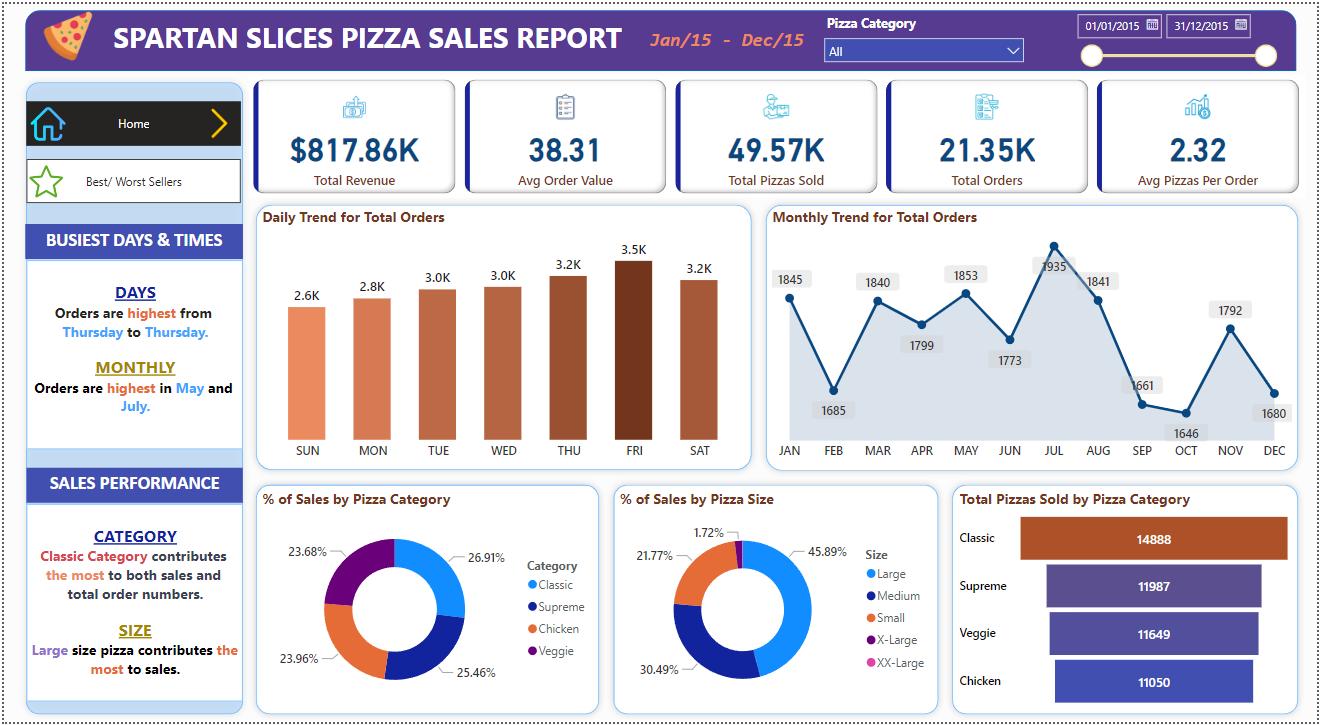

What the dashboard file says about the page in this screenshot:
{"tool":"powerbi","page":{"name":"Home","canvas":[1500,820],"ordinal":0},"visuals":[{"type":"shape","box":[16.5,81.4,263.9,738.1],"z":0},{"type":"cardVisual","fields":{"Data":["pizza_sales_excel_file.Total Revenue","pizza_sales_excel_file.Avg Total Value","pizza_sales_excel_file.Total Pizzas Sold","pizza_sales_excel_file.Total Orders","pizza_sales_excel_file.Avg Pizzas Per Order"]},"box":[280.4,81.4,1207.2,140.2],"z":1000},{"type":"shape","box":[23.9,7.2,1452.8,69.4],"z":2000},{"type":"textbox","box":[115.7,11.4,608.6,61.4],"z":3000},{"type":"textbox","box":[724.3,22.9,202.9,41.4],"z":4000},{"type":"image","box":[37.1,2.9,71.4,67.1],"z":5000},{"type":"shape","box":[280.4,221.6,582.5,319.6],"z":6000},{"type":"columnChart","title":"Daily Trend for Total Orders","fields":{"Category":["pizza_sales_excel_file.Order Day"],"Y":["pizza_sales_excel_file.Total Orders"]},"box":[290,231.4,562.9,298.6],"z":7000},{"type":"shape","box":[862.9,221.4,624.3,320],"z":8000},{"type":"areaChart","title":"Monthly Trend for Total Orders","fields":{"Category":["pizza_sales_excel_file.Order Month"],"Y":["pizza_sales_excel_file.Total Orders"]},"box":[872.9,231.4,604.3,298.6],"z":9000},{"type":"shape","box":[280.4,541.2,408.2,278.4],"z":10000},{"type":"shape","box":[688.6,541.4,387.1,278.6],"z":11000},{"type":"shape","box":[1075.7,541.4,411.4,278.6],"z":12000},{"type":"donutChart","title":"% of Sales by Pizza Category","fields":{"Category":["pizza_sales_excel_file.pizza_category"],"Y":["pizza_sales_excel_file.Total Revenue"]},"box":[289.7,554.6,388.7,253.6],"z":13000},{"type":"donutChart","title":"% of Sales by Pizza Size","fields":{"Category":["pizza_sales_excel_file.pizza_size"],"Y":["pizza_sales_excel_file.Total Revenue"]},"box":[698.6,554.3,367.1,254.3],"z":14000},{"type":"funnel","title":"Total Pizzas Sold by Pizza Category","fields":{"Category":["pizza_sales_excel_file.pizza_category"],"Y":["pizza_sales_excel_file.Total Pizzas Sold"]},"box":[1087.1,554.3,390,254.3],"z":15000},{"type":"textbox","box":[24.3,251.4,248.6,40],"z":16000},{"type":"textbox","box":[25.7,292.9,247.1,215.7],"z":17000},{"type":"textbox","box":[25.7,530,247.1,40],"z":18000},{"type":"textbox","box":[25.7,571.4,247.1,225.7],"z":19000},{"type":"slicer","fields":{"Values":["pizza_sales_excel_file.pizza_category"]},"box":[927.1,7.1,248.6,60],"z":20000},{"type":"slicer","fields":{"Values":["pizza_sales_excel_file.order_date"]},"box":[1214.3,1.4,248.6,75.7],"z":21000},{"type":"pageNavigator","box":[25.7,111.4,245.7,50],"z":22000},{"type":"pageNavigator","box":[25.7,177.1,245.7,50],"z":23000},{"type":"image","box":[218.6,114.3,54.3,44.3],"z":24000},{"type":"image","box":[25.7,111.4,50,51.4],"z":25000},{"type":"image","box":[24.3,177.1,48.6,51.4],"z":26000}]}

Visuals, with their boxes in screenshot pixels (x1, y1, x2, y2), scaled from the page's 1500x820 canvas onto the 1320x725 screenshot:
shape: box(15, 72, 247, 724)
cardVisual - pizza_sales_excel_file.Total Revenue x pizza_sales_excel_file.Avg Total Value: box(247, 72, 1309, 196)
shape: box(21, 6, 1299, 68)
textbox: box(102, 10, 637, 64)
textbox: box(637, 20, 816, 57)
image: box(33, 3, 95, 62)
shape: box(247, 196, 759, 479)
"Daily Trend for Total Orders" columnChart: box(255, 205, 751, 469)
shape: box(759, 196, 1309, 479)
"Monthly Trend for Total Orders" areaChart: box(768, 205, 1300, 469)
shape: box(247, 479, 606, 724)
shape: box(606, 479, 947, 724)
shape: box(947, 479, 1309, 724)
"% of Sales by Pizza Category" donutChart: box(255, 490, 597, 715)
"% of Sales by Pizza Size" donutChart: box(615, 490, 938, 715)
"Total Pizzas Sold by Pizza Category" funnel: box(957, 490, 1300, 715)
textbox: box(21, 222, 240, 258)
textbox: box(23, 259, 240, 450)
textbox: box(23, 469, 240, 504)
textbox: box(23, 505, 240, 705)
slicer - pizza_sales_excel_file.pizza_category: box(816, 6, 1035, 59)
slicer - pizza_sales_excel_file.order_date: box(1069, 1, 1287, 68)
pageNavigator: box(23, 98, 239, 143)
pageNavigator: box(23, 157, 239, 201)
image: box(192, 101, 240, 140)
image: box(23, 98, 67, 144)
image: box(21, 157, 64, 202)
